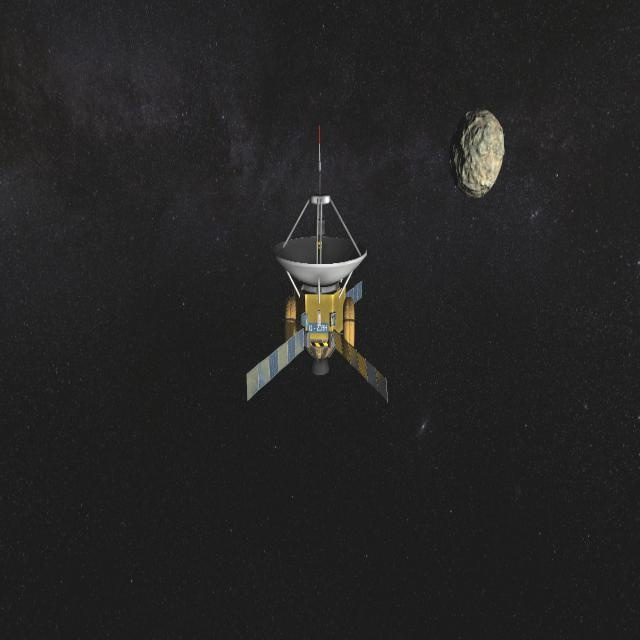medium_debris: (233, 124, 411, 416)
